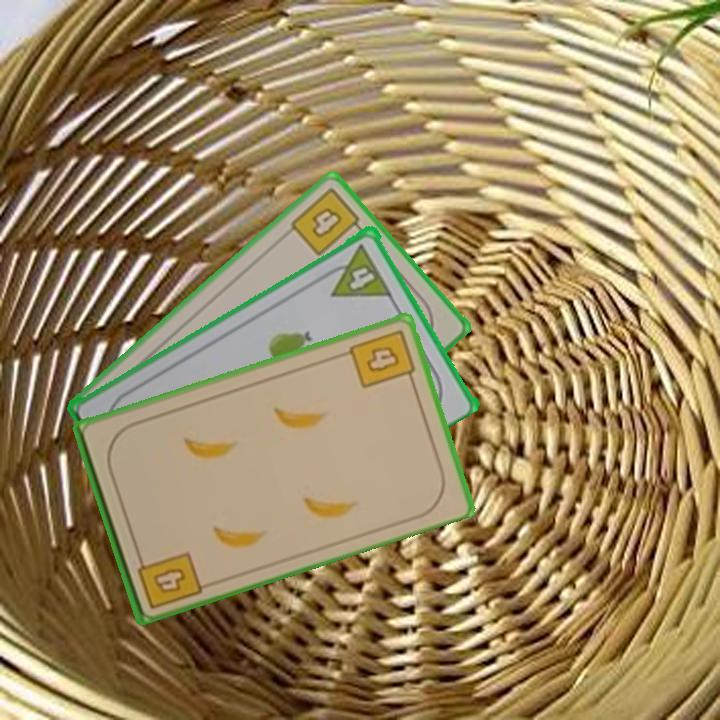4b: (286, 183, 368, 259), (345, 325, 418, 391), (133, 547, 204, 612)
4p: (319, 239, 394, 300)
